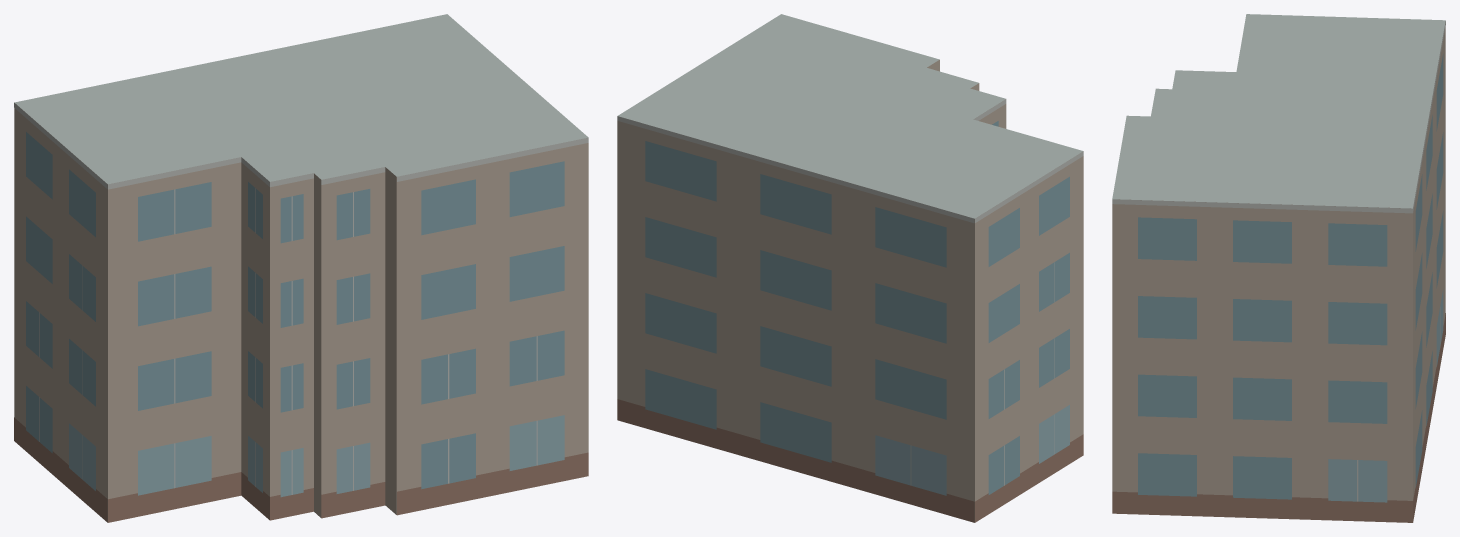
The model's file is survey-upis-32827246.glb.
3 renders of one model, left to right at view 1: azimuth 30°, elevation 25°; view 2: azimuth 150°, elevation 25°; view 3: azimuth 270°, elevation 25°, orthographic. The views are drawn at different scales.
Parts seen in each view (by area): view 1: survey-upis-32827246.tmp; view 2: survey-upis-32827246.tmp; view 3: survey-upis-32827246.tmp.
Part boxes in pixels (<box>): survey-upis-32827246.tmp: <box>14,14,588,522</box>; survey-upis-32827246.tmp: <box>617,14,1083,522</box>; survey-upis-32827246.tmp: <box>1112,14,1445,522</box>.
Size of the model in its own units: 20.83 by 15.69 by 15.1.
